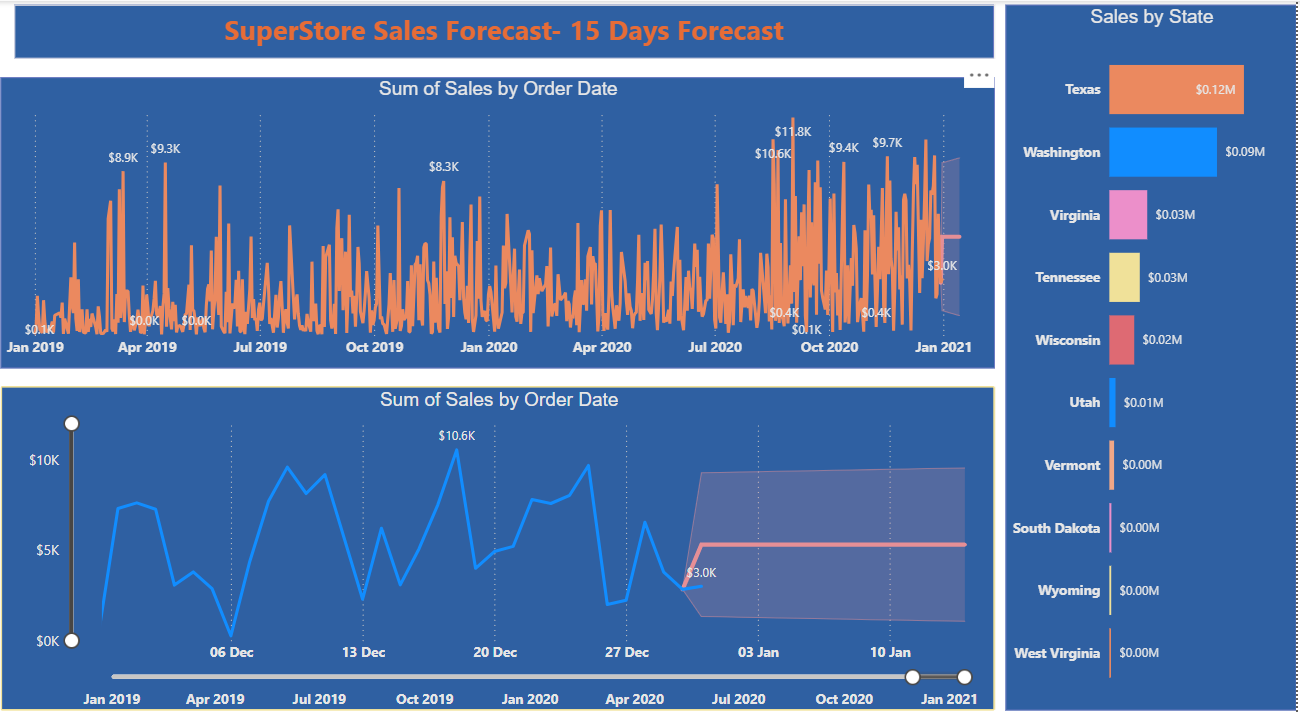

The page's visual inventory and layout, read from the dashboard file:
{"tool":"powerbi","page":{"name":"Forecast","canvas":[1280,720],"ordinal":1},"visuals":[{"type":"lineChart","fields":{"Y":["Sum(SuperStore_Sales_Dataset.Sales)"],"Category":["SuperStore_Sales_Dataset.Order Date"]},"box":[12.5,75,972.5,285],"z":0},{"type":"lineChart","fields":{"Y":["Sum(SuperStore_Sales_Dataset.Sales)"],"Category":["SuperStore_Sales_Dataset.Order Date"]},"box":[12.5,376.2,972.5,317.5],"z":1000},{"type":"clusteredBarChart","title":"Sales by State","fields":{"Category":["SuperStore_Sales_Dataset.State"],"Y":["Sum(SuperStore_Sales_Dataset.Sales)"]},"box":[995,3.8,285,690],"z":2000},{"type":"textbox","box":[26.2,3.8,958.8,52.5],"z":3000}]}

Visuals, with their boxes in screenshot pixels (x1, y1, x2, y2), scaled from the page's 1280x720 canvas onto the 1300x713 screenshot:
lineChart - Sum(SuperStore_Sales_Dataset.Sales) x SuperStore_Sales_Dataset.Order Date: x1=13, y1=74, x2=1000, y2=356
lineChart - Sum(SuperStore_Sales_Dataset.Sales) x SuperStore_Sales_Dataset.Order Date: x1=13, y1=373, x2=1000, y2=687
"Sales by State" clusteredBarChart: x1=1011, y1=4, x2=1299, y2=687
textbox: x1=27, y1=4, x2=1000, y2=56
